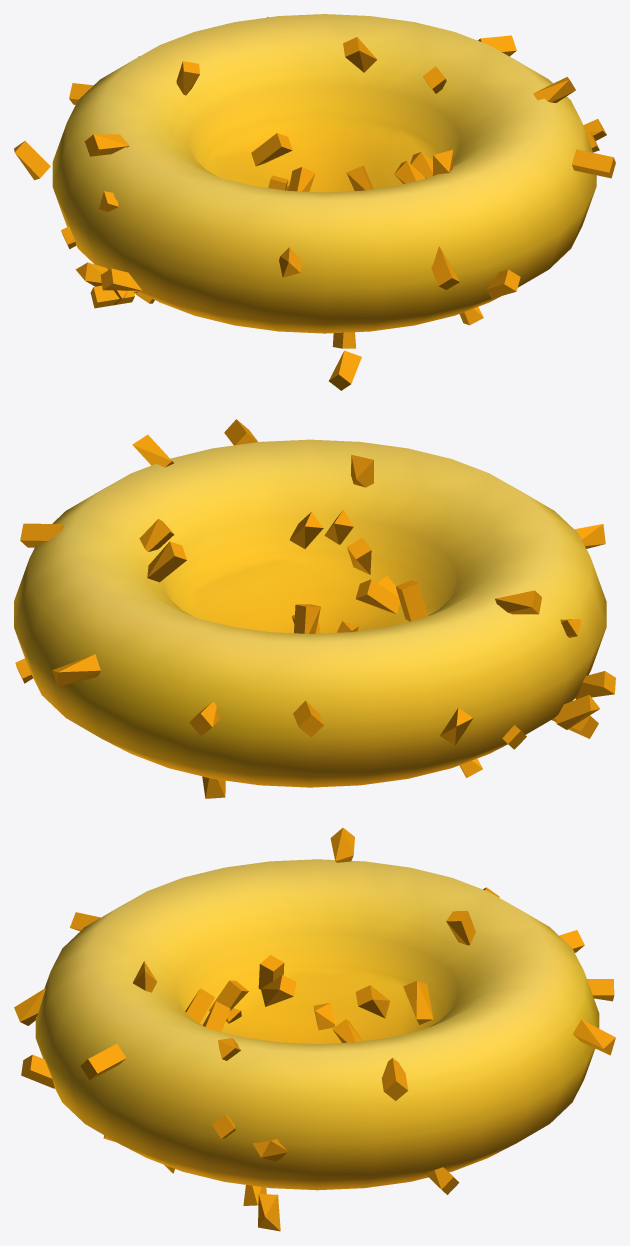
The model's file is Nest.fbx.
The picture shows the model from 3 angles, top to bottom: view 1: azimuth 30°, elevation 25°; view 2: azimuth 150°, elevation 25°; view 3: azimuth 270°, elevation 25°; orthographic projection. The views are drawn at different scales.
Visible parts, largest first — view 1: Nest; view 2: Nest; view 3: Nest.
Boxes of the visible parts, x1=… form: Nest: x1=14, y1=14, x2=615, y2=390; Nest: x1=14, y1=419, x2=615, y2=798; Nest: x1=14, y1=828, x2=615, y2=1231.
Bounding box in the file's own units: 0.8179 × 0.2996 × 0.8092.
